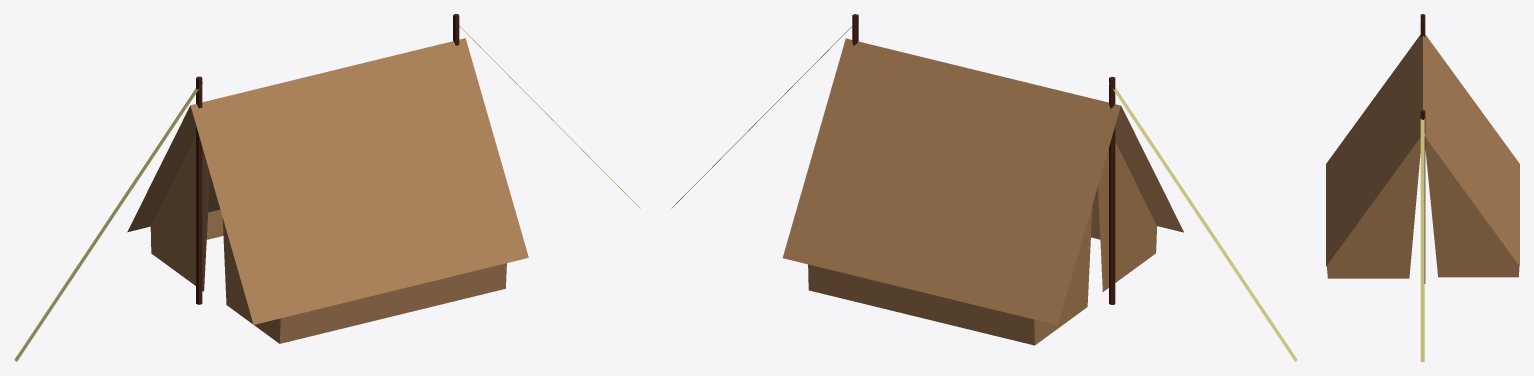
Rendered from Camp1.dae.
3 renders of one model, left to right at view 1: azimuth 30°, elevation 25°; view 2: azimuth 150°, elevation 25°; view 3: azimuth 270°, elevation 25°, orthographic. The views are drawn at different scales.
Parts seen in each view (by area): view 1: Camp1; view 2: Camp1; view 3: Camp1.
Boxes of the visible parts, x1,y1,x2,y2 form: Camp1: (14, 14, 640, 361); Camp1: (671, 14, 1297, 361); Camp1: (1326, 14, 1519, 361).
Size of the model in its own units: 5.94 by 2.08 by 2.16.
